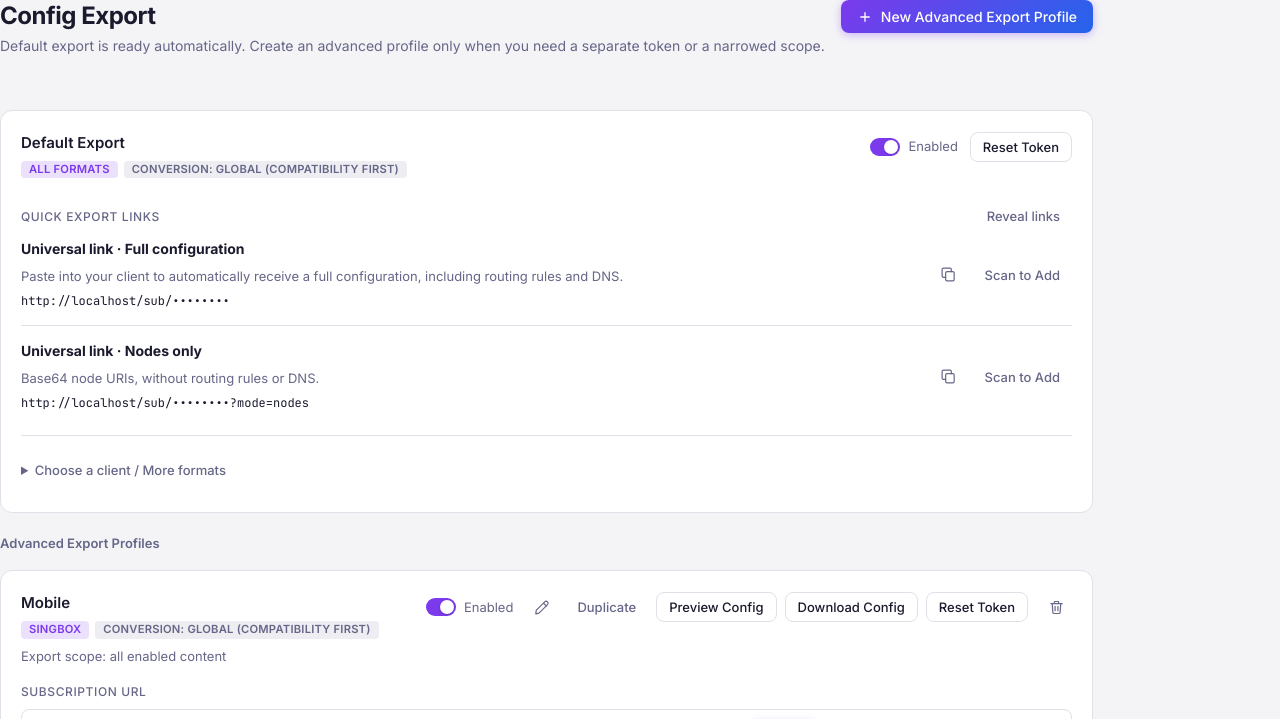
Test: Export › shows guidance that changes with the selected export format
This screenshot has width=1280, height=719.
Click the button "New Advanced Export Profile" at (967, 16), box [841,0,1093,33]
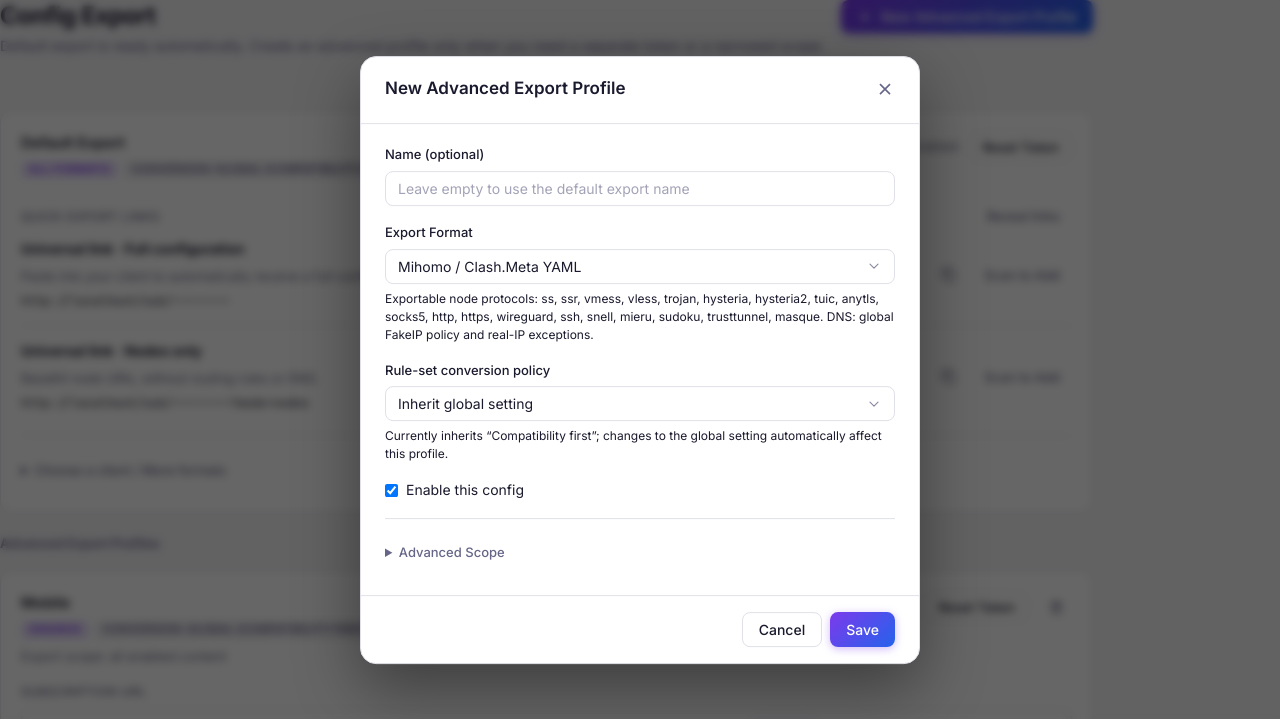
Check: the text "Exportable node protocols:" shows "global FakeIP policy", box [385,291,894,342]
Select "Node Subscription (Base64)" in the dropdown labelled "Export Format" at (640, 266), box [385,249,895,284]
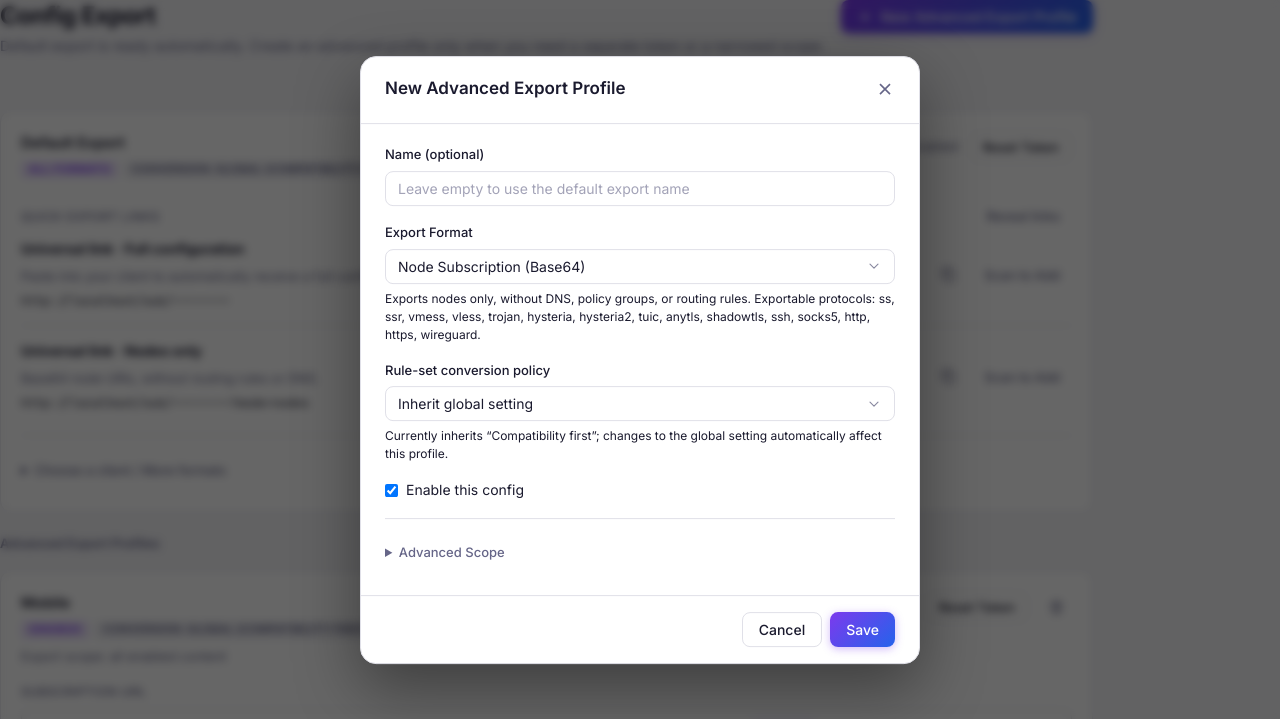
Check: the text "Exports nodes only" shows "without DNS, policy groups, or routing rules", box [385,291,895,342]
